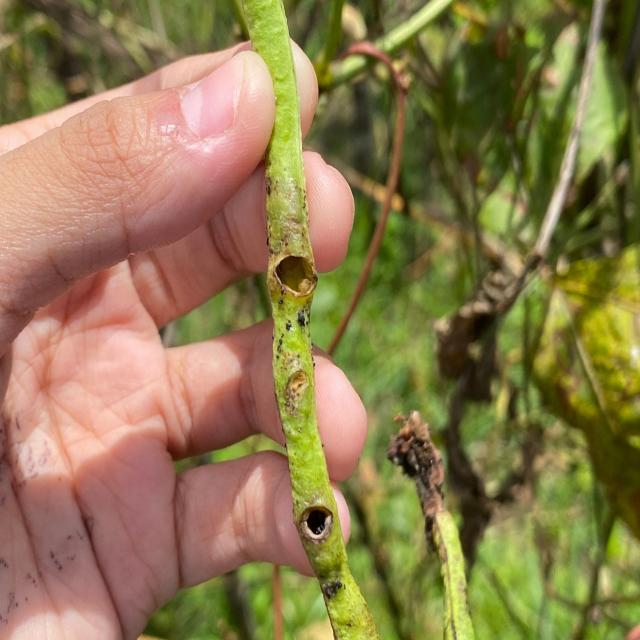sitaw-aphid-moderate: (240, 0, 380, 640), (388, 411, 474, 640)
